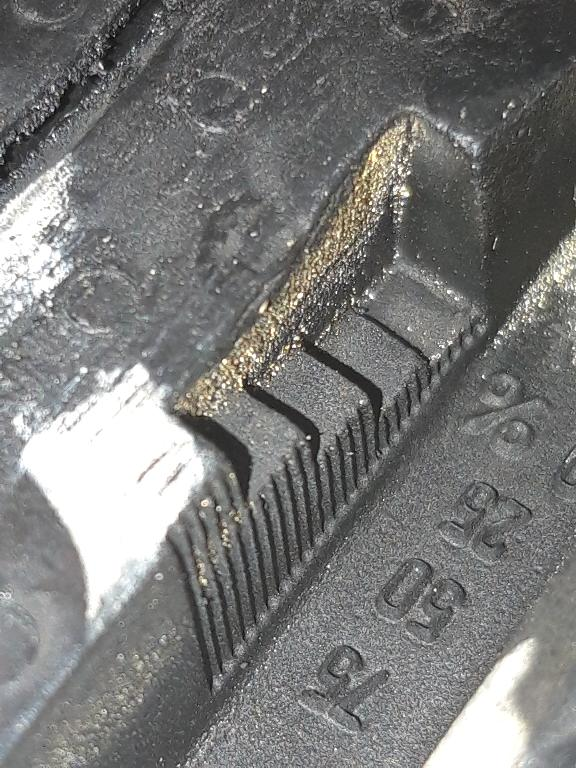temoin:100: (157, 108, 491, 686)
